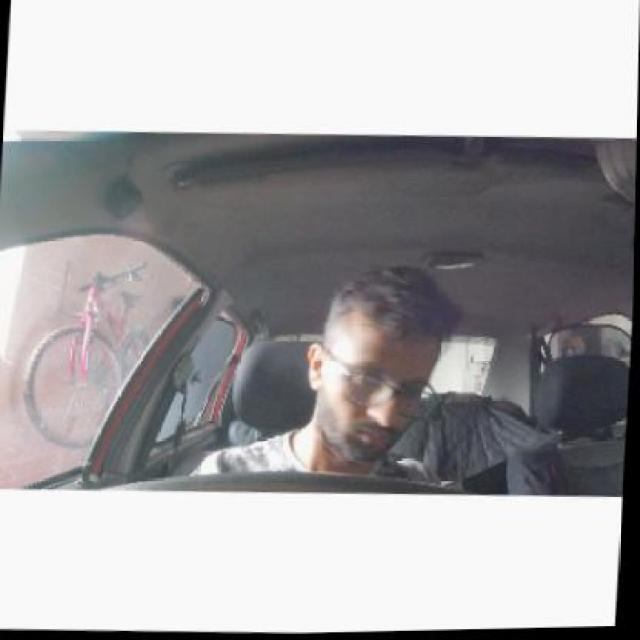person: (302, 272, 453, 472)
